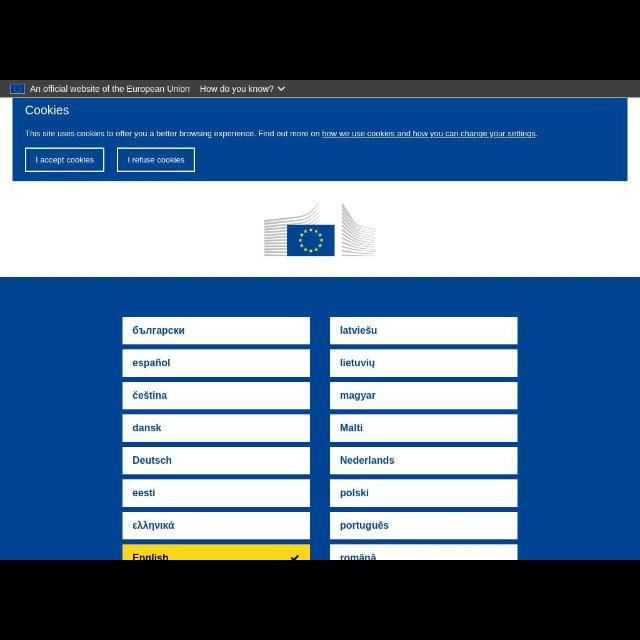icon: (276, 85, 286, 93), (290, 555, 302, 559)
iframe: (12, 98, 628, 182)
image: (8, 84, 26, 95)
spinner: (200, 82, 286, 96)
text: (23, 128, 539, 140), (30, 86, 190, 94), (131, 324, 187, 338), (23, 104, 71, 118), (126, 156, 186, 167), (34, 154, 94, 164), (200, 86, 274, 94), (131, 454, 173, 468), (132, 520, 176, 532), (132, 388, 168, 402), (340, 521, 390, 531), (339, 356, 377, 369), (338, 325, 378, 337), (338, 456, 396, 464), (130, 358, 172, 368), (338, 487, 370, 499), (339, 392, 376, 402), (130, 488, 158, 500), (338, 422, 364, 432), (131, 424, 163, 432), (340, 552, 378, 558), (132, 552, 170, 558)
textbutton: (262, 202, 376, 258), (122, 479, 310, 507), (330, 316, 518, 344), (330, 446, 518, 474), (330, 512, 518, 540), (124, 512, 310, 540), (330, 384, 518, 411), (330, 479, 518, 506), (122, 448, 310, 474), (330, 351, 518, 377), (123, 318, 310, 344), (124, 351, 310, 377), (124, 383, 310, 409), (124, 416, 310, 442), (331, 416, 517, 442), (124, 545, 310, 559), (331, 545, 517, 559), (118, 148, 196, 172), (25, 148, 103, 170)
toolbar: (1, 81, 639, 97)
